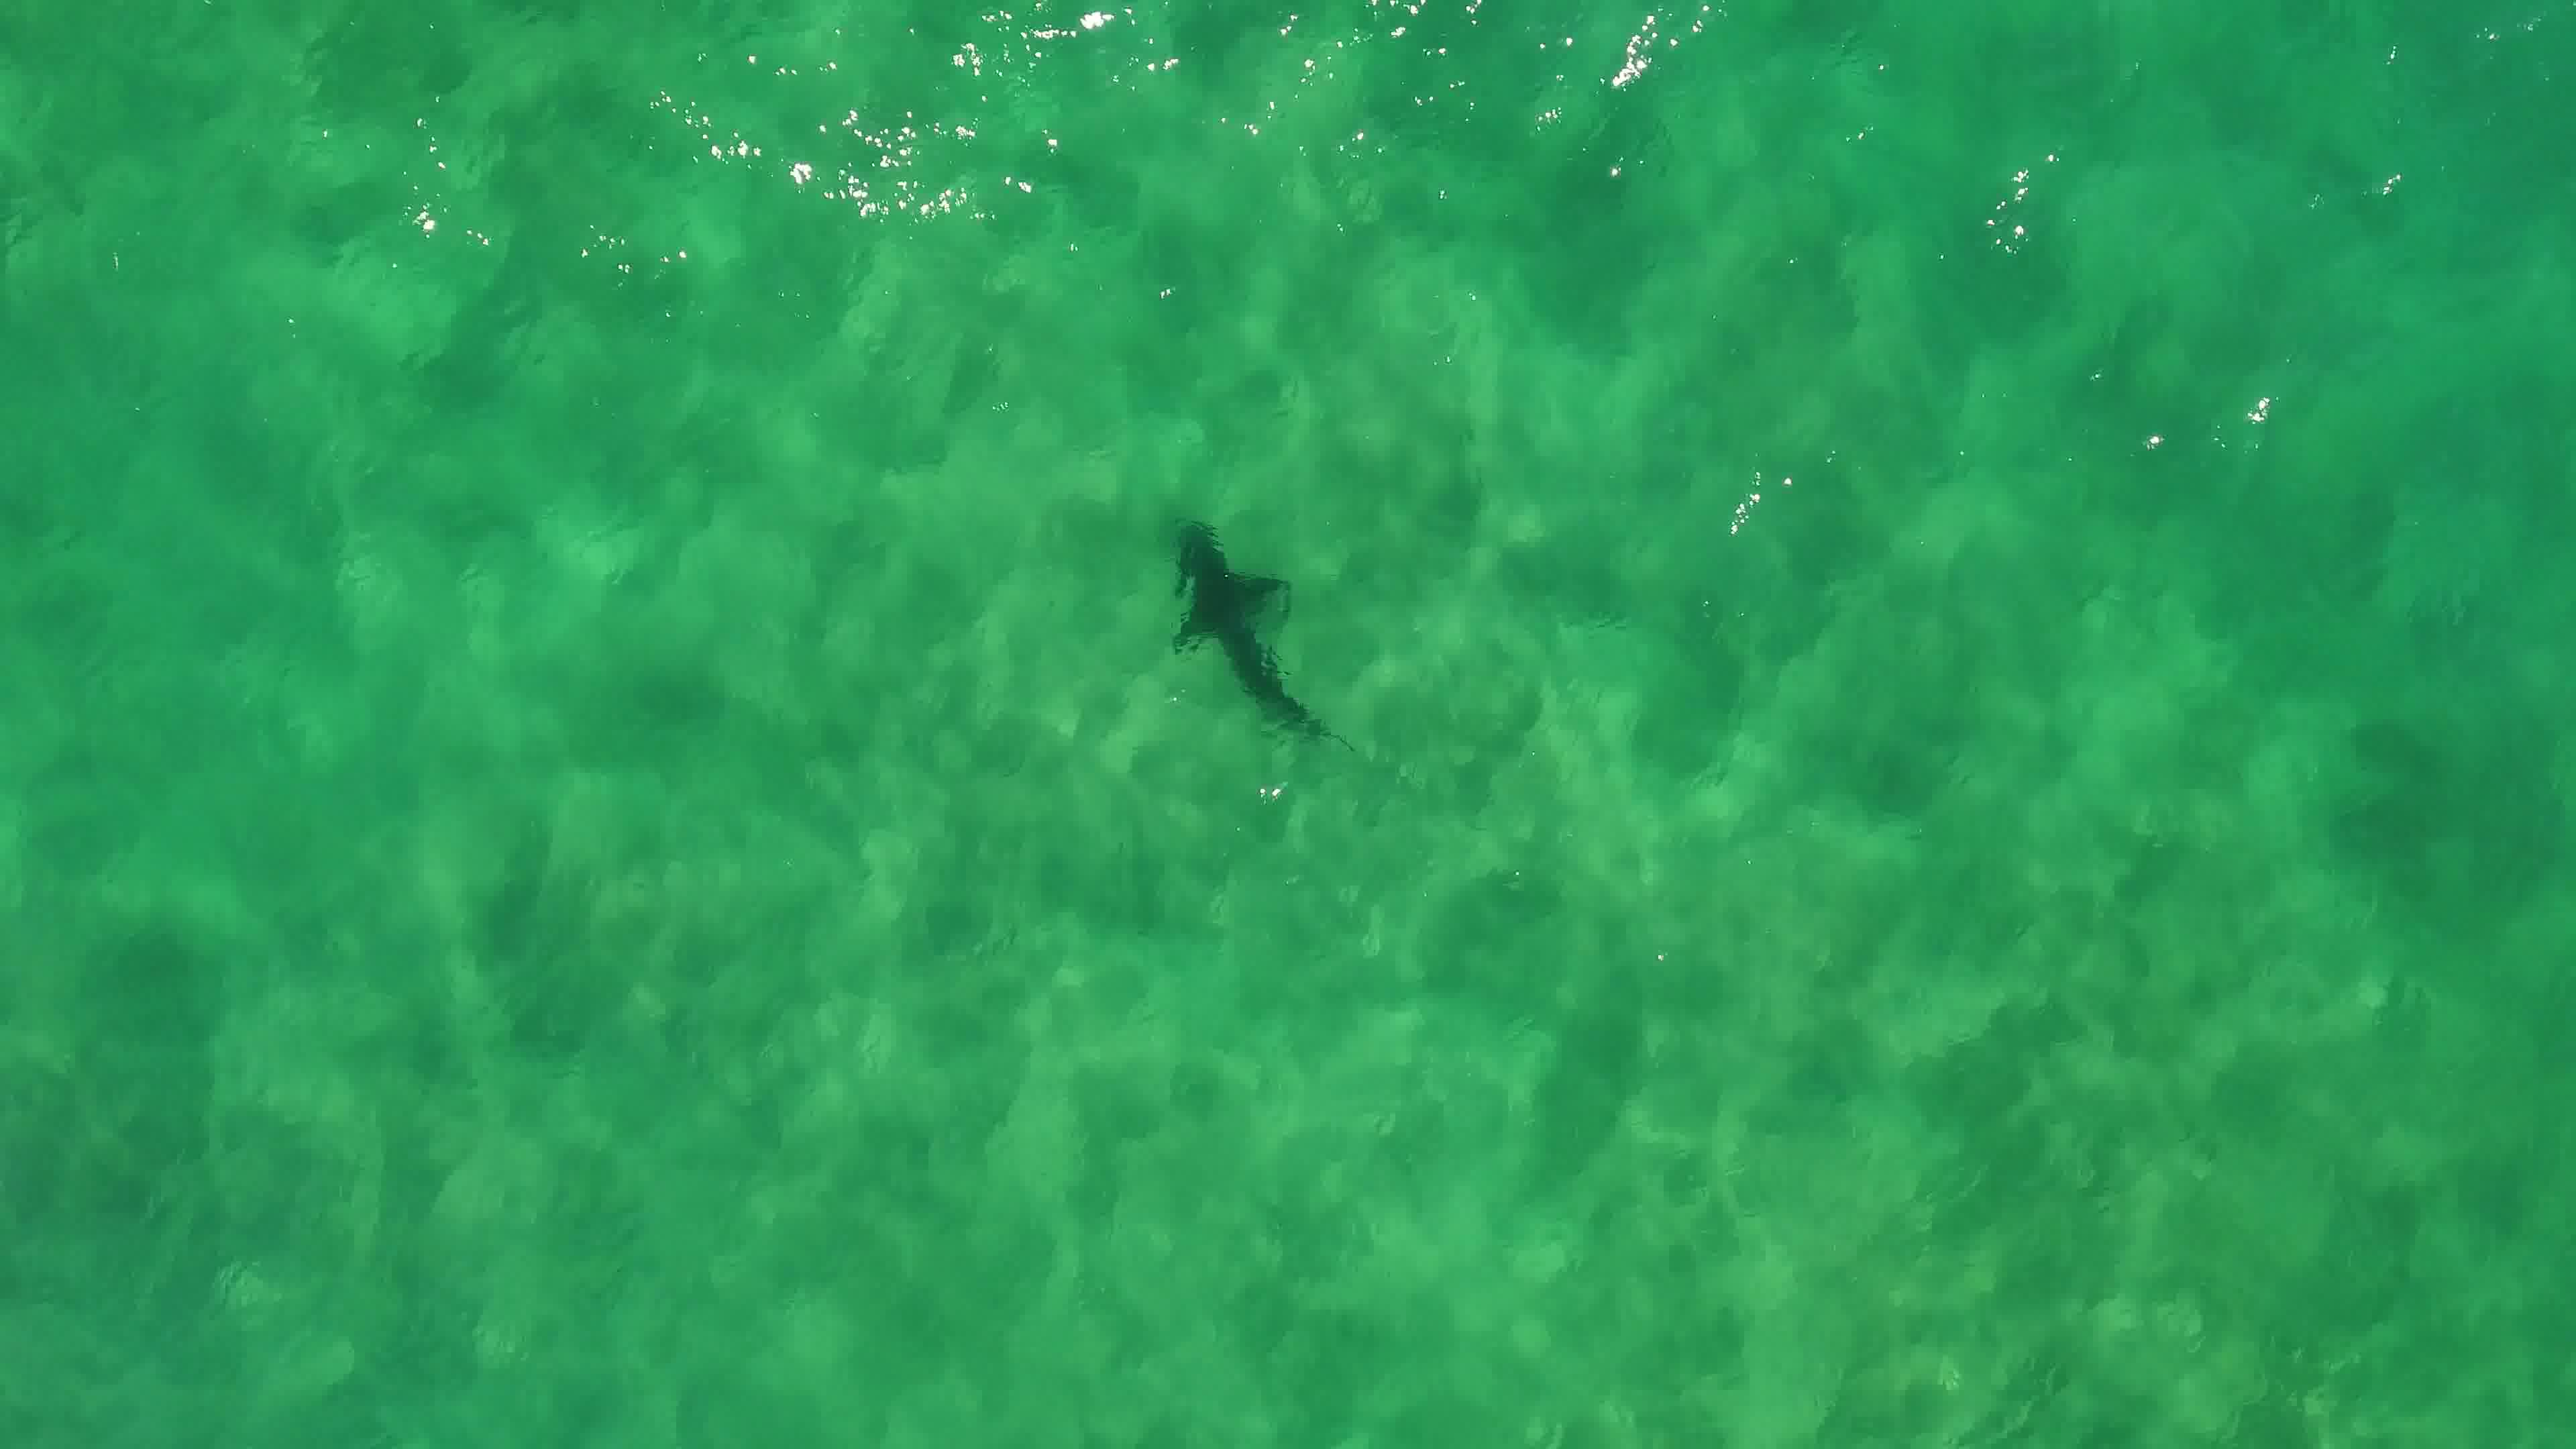shark: (1161, 511, 1364, 761)
